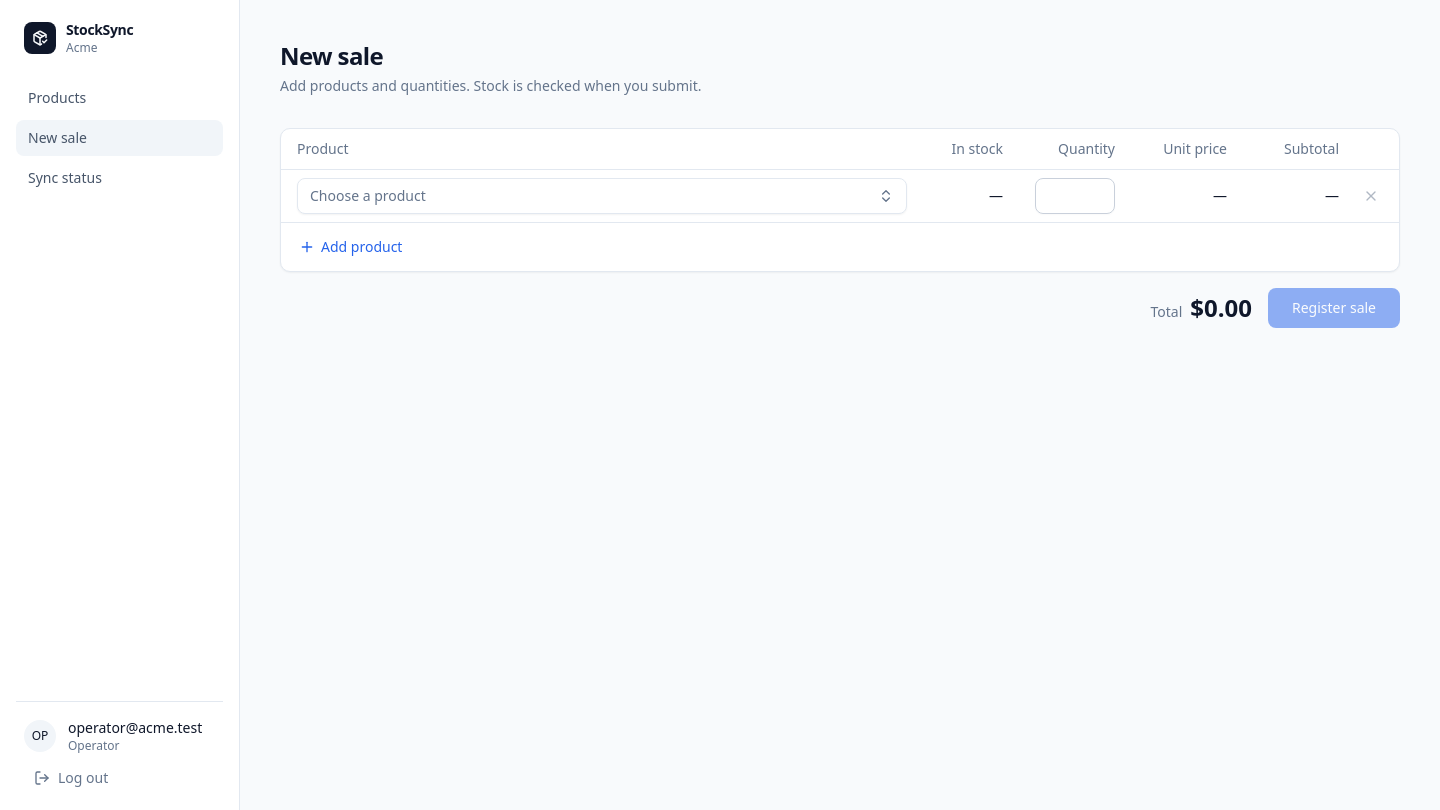
Test: new sale stock check › blocks quantity '' with 'Enter a whole number'
The width and height of the screenshot is (1440, 810).
Expected: the heading "New sale" is shown, [280, 39, 383, 72]
Step 1. Click the dropdown labelled "Choose a product" → click(368, 195), box [297, 178, 907, 214]
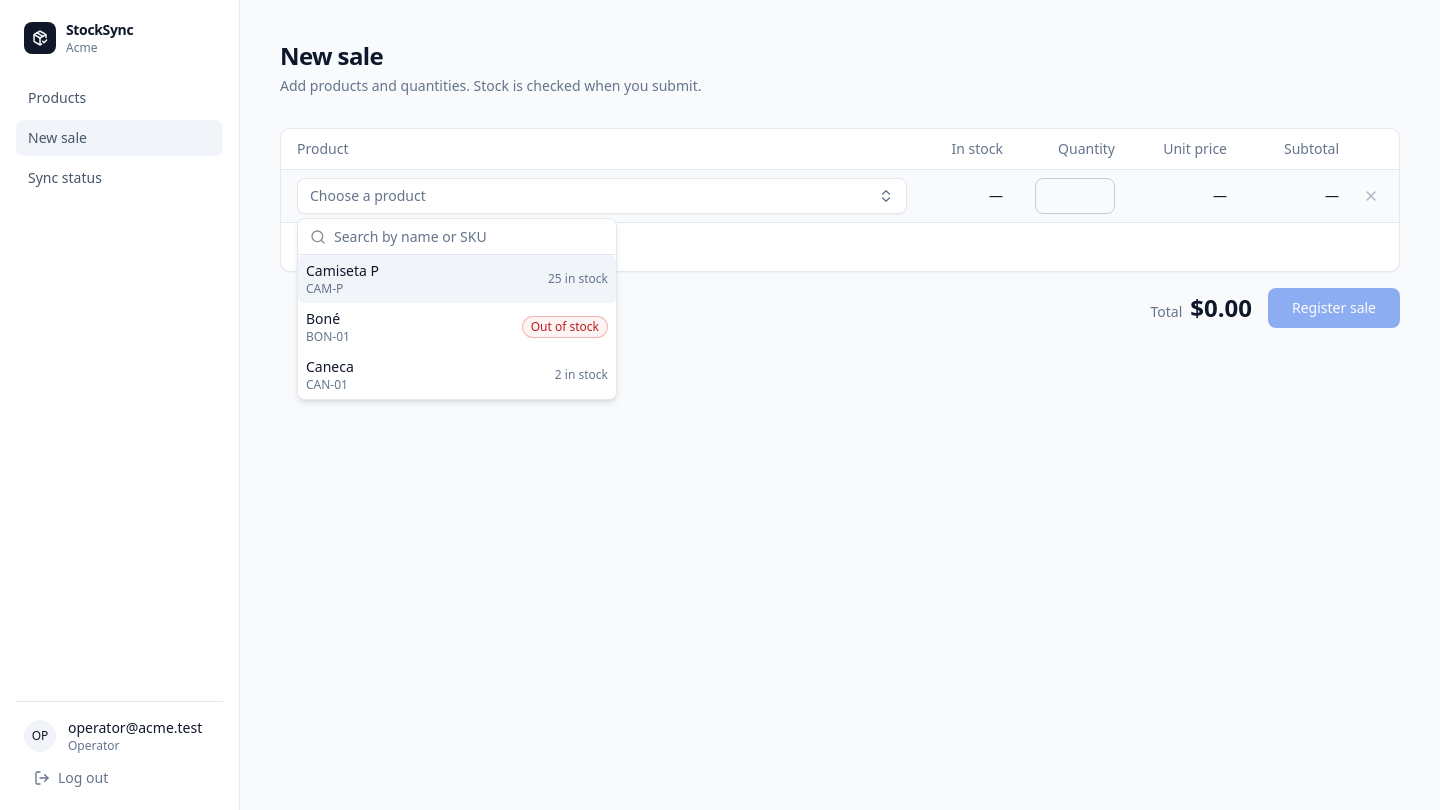
Step 2. Type "Cam" into the dropdown named "Search products" → (469, 236), box [334, 216, 604, 256]
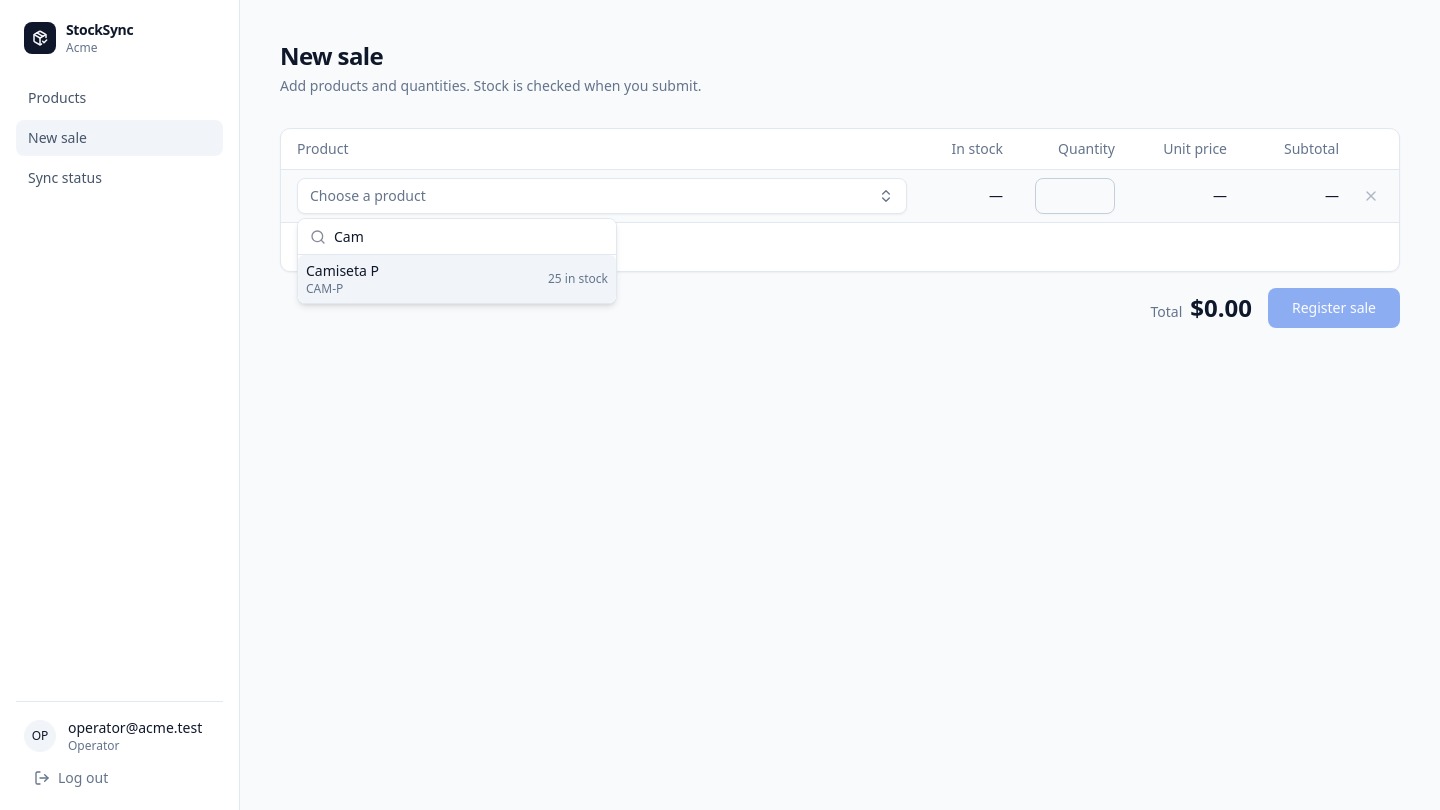
Step 3. Click the option "Camiseta P CAM-P 25 in stock" → click(343, 270), box [298, 255, 616, 303]
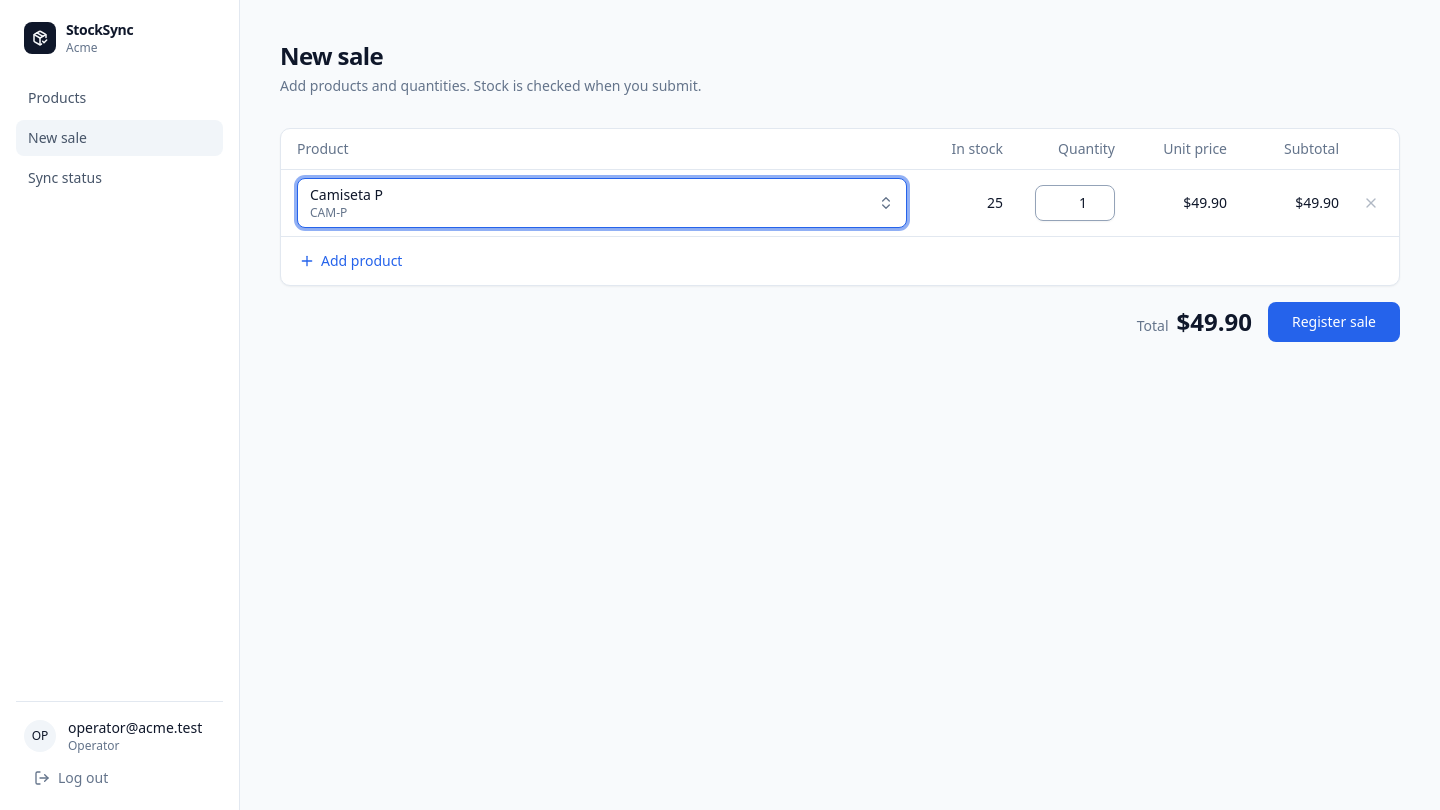
Step 4. Clear the number field named "Quantity, line 1" → (1075, 202), box [1035, 184, 1115, 220]
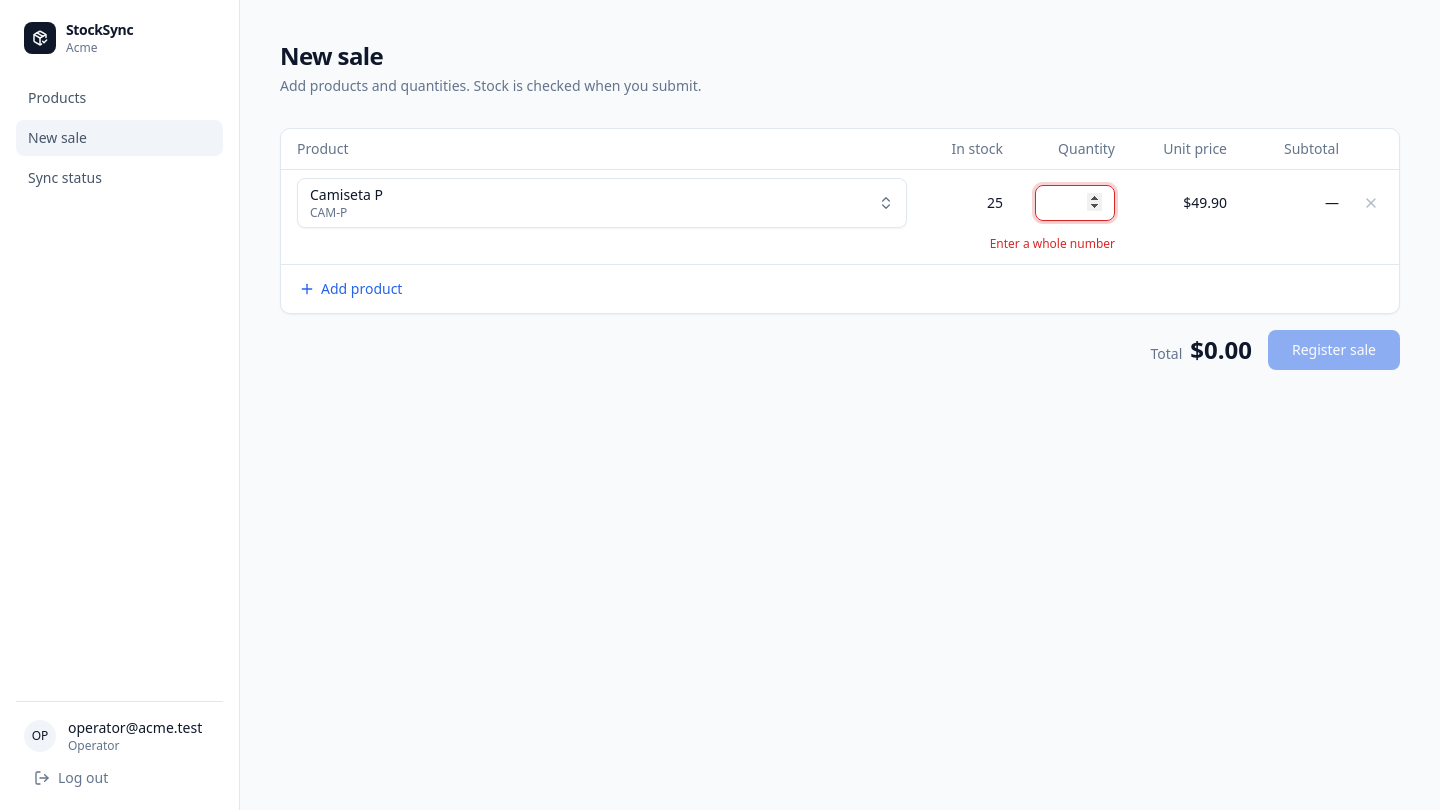
Expected: the button "Register sale" is disabled, [1268, 330, 1400, 370]
